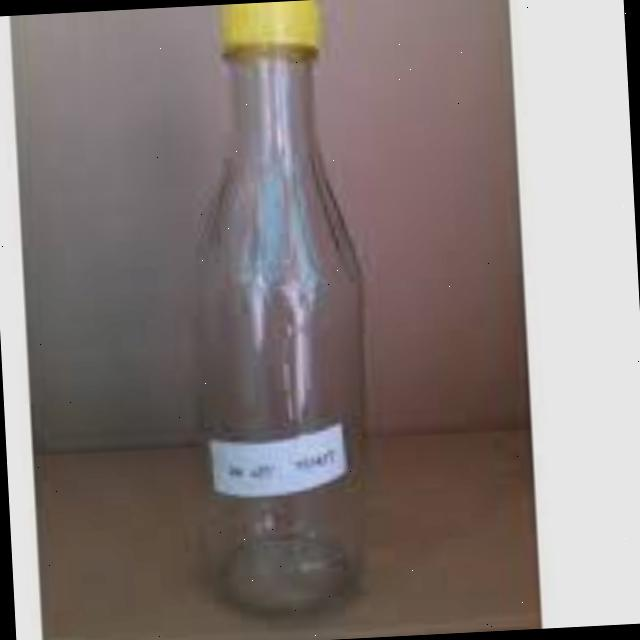trash: (143, 0, 394, 625)
